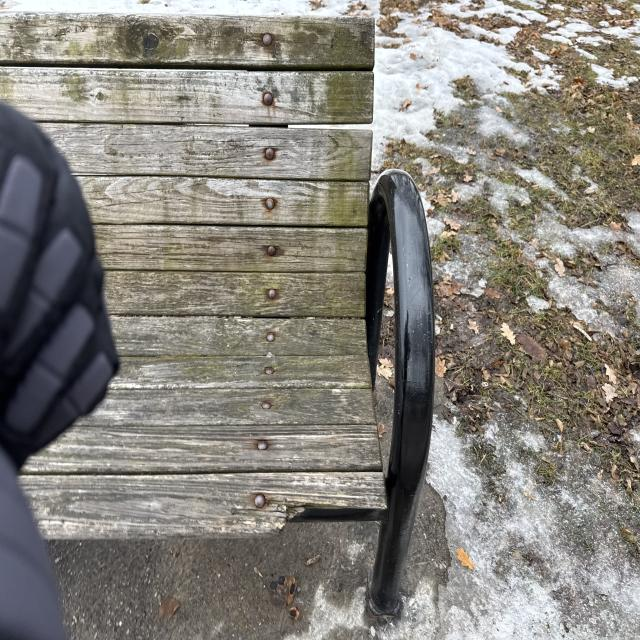Bench: (93, 19, 446, 598)
